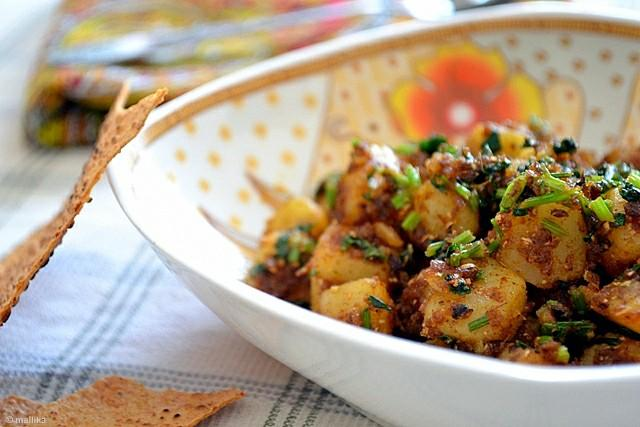AlooMasala: (239, 121, 640, 367)
